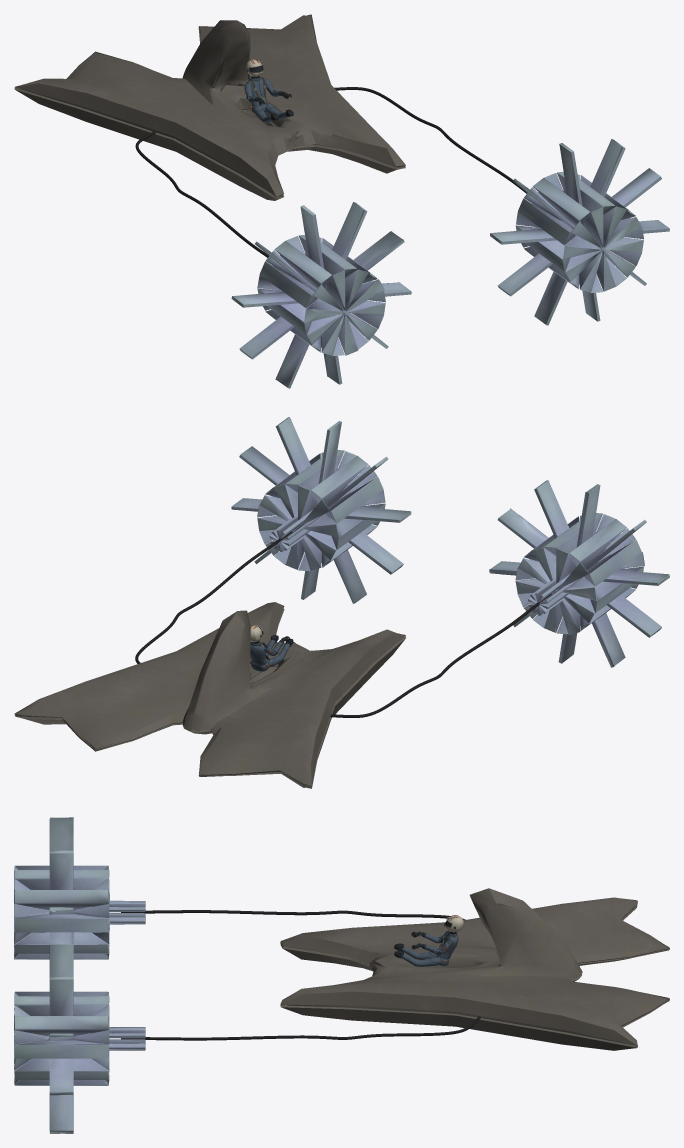
The model's file is needle-rival-v1-r48.glb.
The picture shows the model from 3 angles, top to bottom: view 1: azimuth 30°, elevation 25°; view 2: azimuth 150°, elevation 25°; view 3: azimuth 270°, elevation 25°; orthographic projection.
Parts seen in each view (by area): view 1: needle-body-0, needle-body-2, needle-body-1, needle-pilot-4; view 2: needle-body-0, needle-body-2, needle-body-1, needle-pilot-4; view 3: needle-body-0, needle-body-2, needle-body-1, needle-pilot-4.
Part boxes in pixels (bbox=[...]): needle-body-0: bbox=[14, 14, 405, 200]; needle-body-2: bbox=[231, 139, 669, 388]; needle-body-1: bbox=[135, 87, 526, 257]; needle-pilot-4: bbox=[244, 76, 286, 122]; needle-body-0: bbox=[14, 602, 405, 788]; needle-body-2: bbox=[231, 417, 669, 667]; needle-body-1: bbox=[135, 531, 551, 728]; needle-pilot-4: bbox=[250, 639, 289, 671]; needle-body-0: bbox=[280, 888, 669, 1050]; needle-body-2: bbox=[14, 817, 145, 1133]; needle-body-1: bbox=[121, 910, 480, 1040]; needle-pilot-4: bbox=[402, 931, 458, 966].
Size of the model in its own units: 11.92 by 4.74 by 15.84.
9 materials, 9 textured.
